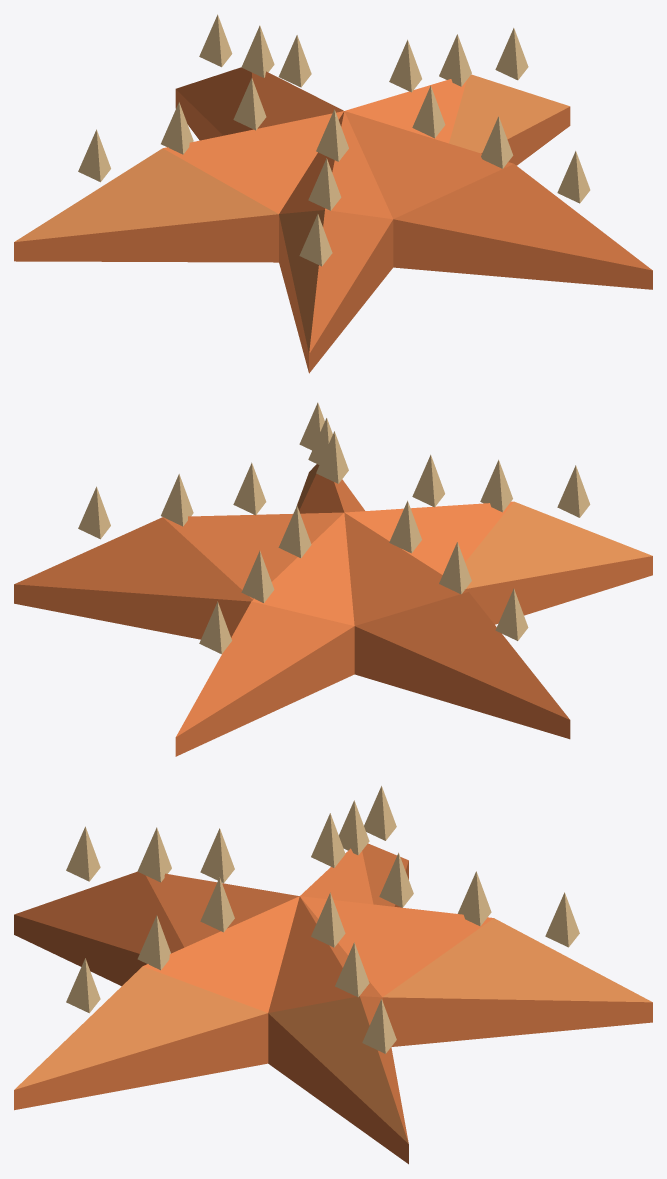
File: starfish.glb
3 renders of one model, top to bottom at view 1: azimuth 30°, elevation 25°; view 2: azimuth 150°, elevation 25°; view 3: azimuth 270°, elevation 25°, orthographic. The views are drawn at different scales.
Visible parts, largest first — view 1: Body; view 2: Body; view 3: Body.
Boxes of the visible parts, x1,y1,x2,y2 form: Body: (14, 14, 652, 373); Body: (14, 402, 652, 756); Body: (14, 786, 652, 1164).
Bounding box in the file's own units: 0.3614 × 0.101 × 0.3437.
